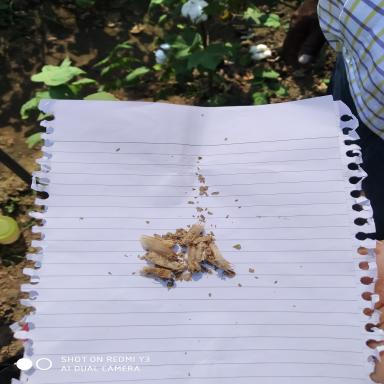abw: (196, 243, 237, 273), (144, 250, 184, 269), (182, 242, 204, 275), (178, 221, 207, 246), (133, 263, 175, 280), (139, 233, 177, 250), (150, 240, 178, 261)
